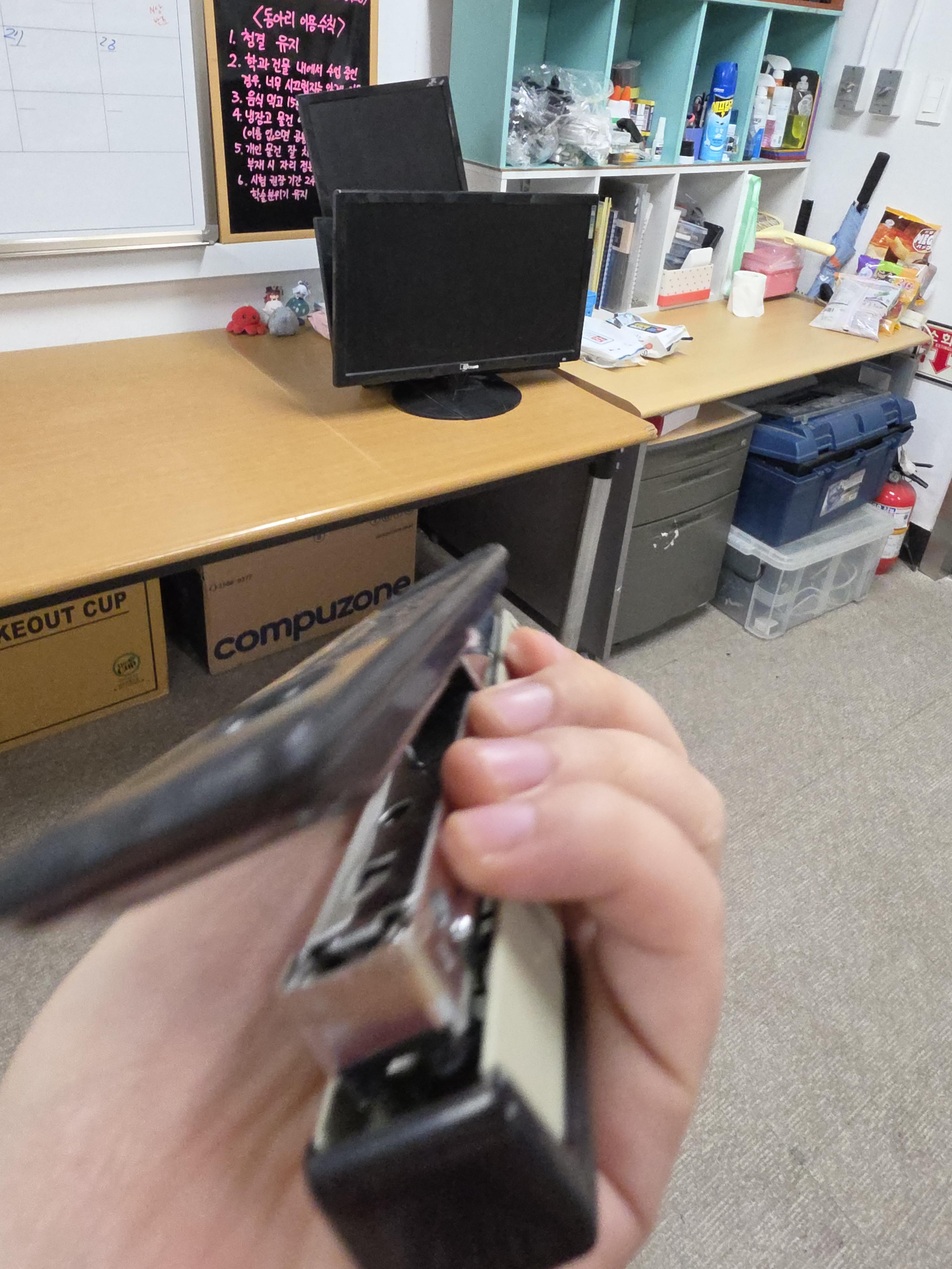stapler: (0, 543, 601, 1268)
tissue: (729, 271, 767, 317)
